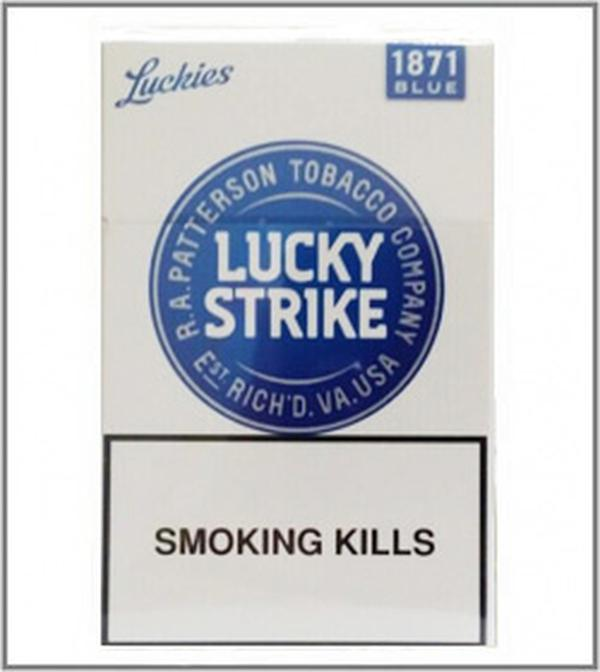lucky_strike_blue: (102, 43, 491, 647)
